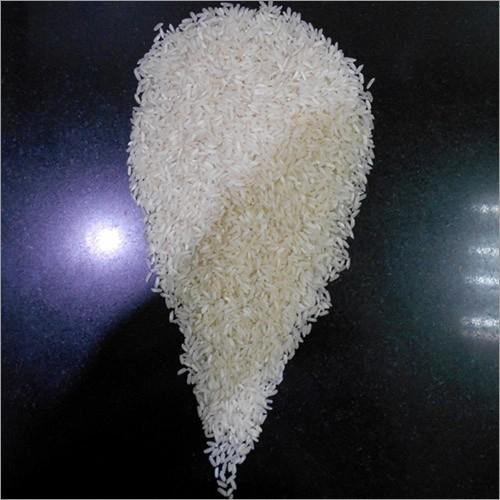WhiteRice: (127, 0, 375, 500)
